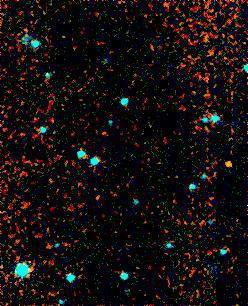star: (215, 142, 245, 172)
